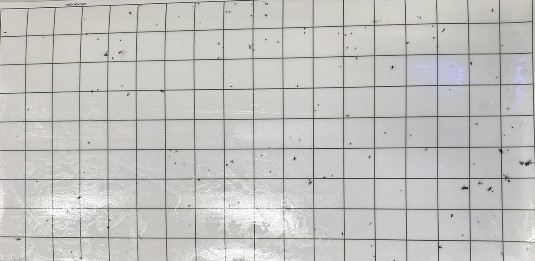test: (518, 159, 532, 167), (503, 173, 511, 183), (100, 50, 109, 58), (118, 49, 125, 59), (86, 137, 94, 145), (461, 184, 470, 191), (26, 106, 32, 114), (388, 64, 396, 70), (89, 88, 95, 95), (84, 30, 90, 37), (41, 37, 50, 41), (160, 89, 167, 94), (128, 9, 133, 16), (300, 25, 307, 30), (45, 217, 50, 224), (308, 179, 313, 186), (488, 185, 493, 192), (125, 91, 130, 97), (118, 83, 124, 88), (138, 235, 143, 241), (230, 158, 235, 164), (347, 140, 352, 146), (498, 148, 503, 154), (430, 35, 436, 40), (206, 168, 213, 172), (155, 22, 160, 27), (250, 45, 255, 50), (322, 175, 327, 180), (510, 125, 515, 130), (405, 40, 410, 45), (441, 28, 446, 33), (373, 18, 378, 23), (96, 86, 99, 94), (118, 38, 124, 42), (263, 2, 269, 6), (366, 154, 372, 158), (474, 122, 480, 126), (105, 225, 112, 228), (302, 31, 307, 35), (15, 134, 20, 138), (78, 195, 82, 200), (16, 237, 21, 241), (173, 161, 178, 165), (298, 138, 303, 142), (331, 173, 335, 178), (423, 147, 428, 151), (408, 133, 412, 138), (478, 181, 483, 185), (448, 88, 453, 92), (353, 46, 357, 51), (430, 24, 435, 28), (438, 245, 443, 249), (398, 188, 403, 192), (107, 218, 113, 221), (3, 30, 7, 34), (225, 163, 229, 167), (292, 156, 296, 160), (339, 231, 343, 235), (314, 108, 318, 112), (346, 114, 350, 118), (450, 214, 454, 218), (472, 162, 476, 166), (338, 64, 342, 68), (346, 46, 350, 50), (501, 43, 505, 47), (175, 149, 179, 153), (230, 83, 233, 88), (81, 171, 86, 174), (198, 177, 201, 182), (295, 85, 300, 88), (384, 131, 387, 136), (355, 57, 360, 60), (337, 32, 342, 35), (367, 222, 372, 225), (217, 56, 221, 59), (250, 14, 253, 18), (34, 180, 38, 183), (68, 250, 72, 253), (237, 201, 240, 205), (260, 153, 263, 157), (233, 3, 237, 6), (317, 103, 321, 106), (508, 107, 512, 110), (470, 62, 474, 65), (416, 23, 420, 26), (364, 26, 368, 29), (491, 8, 494, 12), (288, 136, 292, 139), (267, 223, 270, 227), (136, 180, 138, 185), (218, 42, 221, 45), (83, 17, 86, 20), (78, 183, 81, 186), (350, 32, 353, 35), (501, 252, 504, 255), (268, 145, 271, 148), (313, 228, 316, 231), (96, 38, 100, 40), (187, 205, 191, 207), (229, 203, 231, 207), (345, 33, 347, 37), (418, 17, 422, 19), (461, 233, 463, 237), (372, 255, 376, 257), (175, 17, 181, 18), (227, 10, 229, 13), (269, 170, 272, 172), (265, 14, 267, 17), (496, 76, 498, 79), (170, 149, 172, 152), (278, 41, 280, 43), (265, 38, 267, 40), (370, 245, 372, 247), (112, 56, 113, 59)
